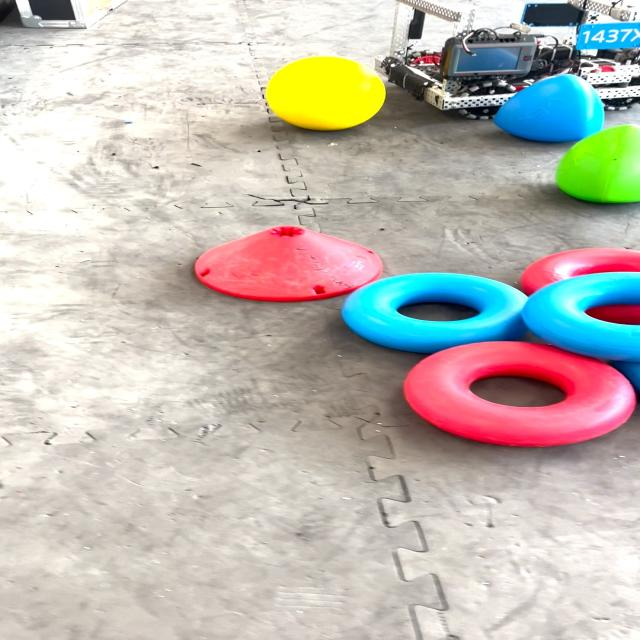Blue-Ring: (342, 272, 527, 352), (522, 272, 639, 361)
Red-Ring: (404, 341, 636, 446)
